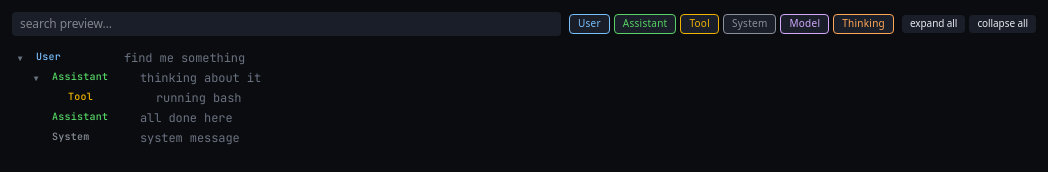
Test: SessionTreeExplorer › collapses a subtree when chevron is clicked
The width and height of the screenshot is (1048, 172).
Check: the text "running bash" is shown, box [156,90,242,106]
Click the button named "collapse subtree".
click(36, 78)  # box [28,70,44,86]
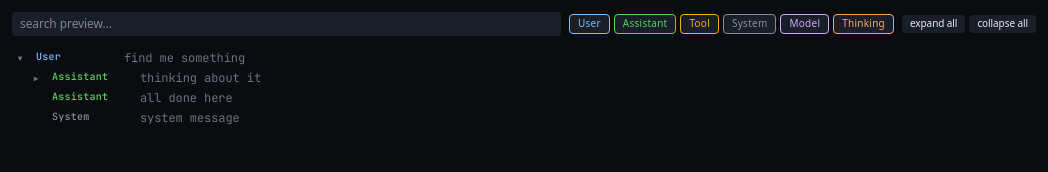
Check: the text "thinking about it" is shown, box [140,70,261,86]
Check: the text "running bash" is gone
Click the button named "expand subtree".
click(36, 78)  # box [28,70,44,86]
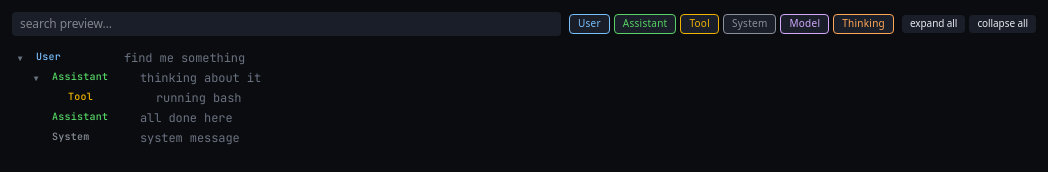
Check: the text "running bash" is shown, box [156,90,242,106]
